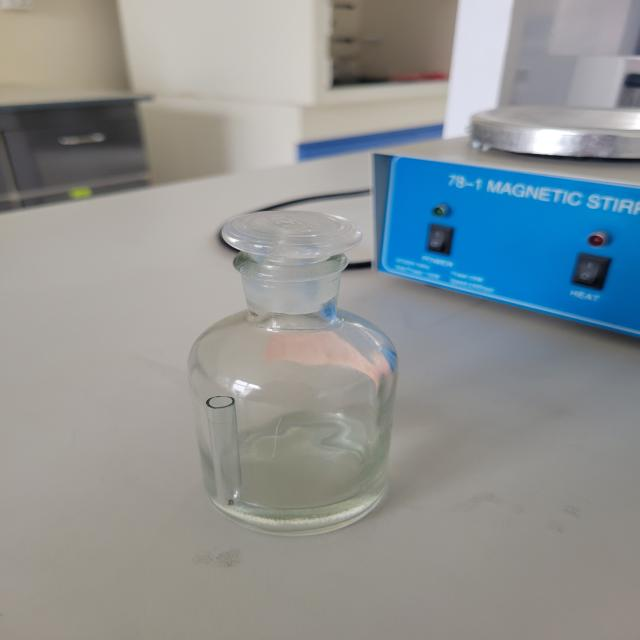Reagent_Bottle: (151, 181, 453, 569)
